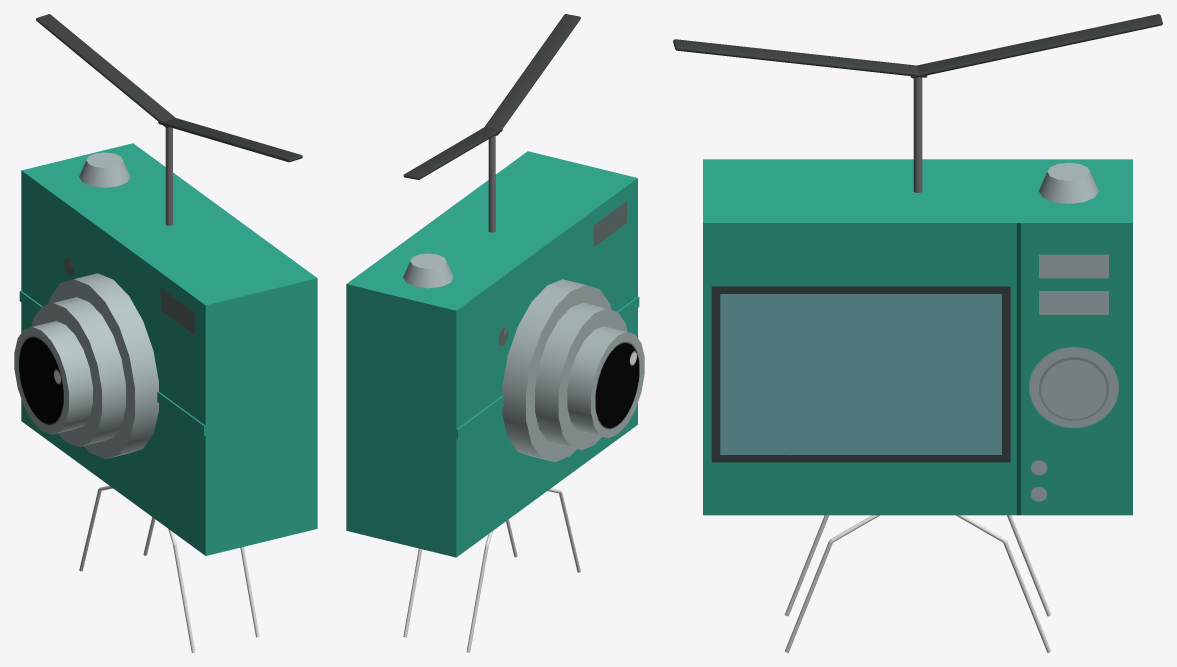
Rendered from Player.FBX.
3 renders of one model, left to right at view 1: azimuth 30°, elevation 25°; view 2: azimuth 150°, elevation 25°; view 3: azimuth 270°, elevation 25°, orthographic. The views are drawn at different scales.
Visible parts, largest first — view 1: Box001, Cylinder001, Cylinder003, Cylinder002, ChamferBox001, Cone001, Cylinder004, Cylinder006; view 2: Box001, Cylinder001, Cylinder003, Cylinder002, ChamferBox001, Cone001, Cylinder004, Cylinder005; view 3: Box001, ChamferBox001, Cone001, Cylinder004, Cylinder007, Cylinder008.
Part boxes in pixels (left/top/right/bottom): Box001: left=19, top=143, right=317, bottom=555; Cylinder001: left=48, top=273, right=158, bottom=458; Cylinder003: left=14, top=321, right=92, bottom=434; Cylinder002: left=31, top=297, right=125, bottom=446; ChamferBox001: left=36, top=14, right=302, bottom=162; Cone001: left=79, top=152, right=130, bottom=187; Cylinder004: left=165, top=127, right=172, bottom=225; Cylinder006: left=168, top=529, right=195, bottom=652; Box001: left=346, top=151, right=639, bottom=557; Cylinder001: left=502, top=279, right=611, bottom=461; Cylinder003: left=567, top=326, right=644, bottom=438; Cylinder002: left=535, top=302, right=627, bottom=450; ChamferBox001: left=403, top=14, right=580, bottom=179; Cone001: left=403, top=253, right=453, bottom=288; Cylinder004: left=488, top=135, right=495, bottom=232; Cylinder005: left=466, top=531, right=492, bottom=652; Box001: left=703, top=159, right=1132, bottom=515; ChamferBox001: left=673, top=14, right=1162, bottom=78; Cone001: left=1039, top=162, right=1098, bottom=203; Cylinder004: left=913, top=77, right=922, bottom=192; Cylinder007: left=785, top=515, right=879, bottom=652; Cylinder008: left=956, top=515, right=1050, bottom=652.
Bounding box in the file's own units: 22.64 × 60.97 × 44.83.
